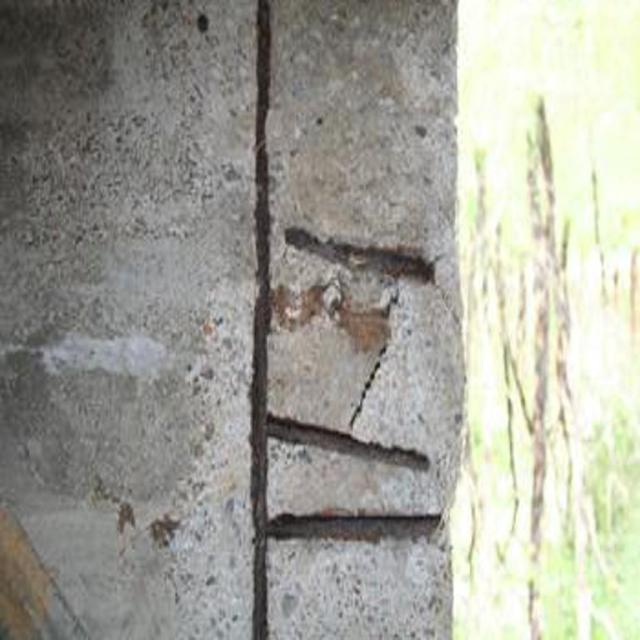spalling: (239, 1, 457, 639)
